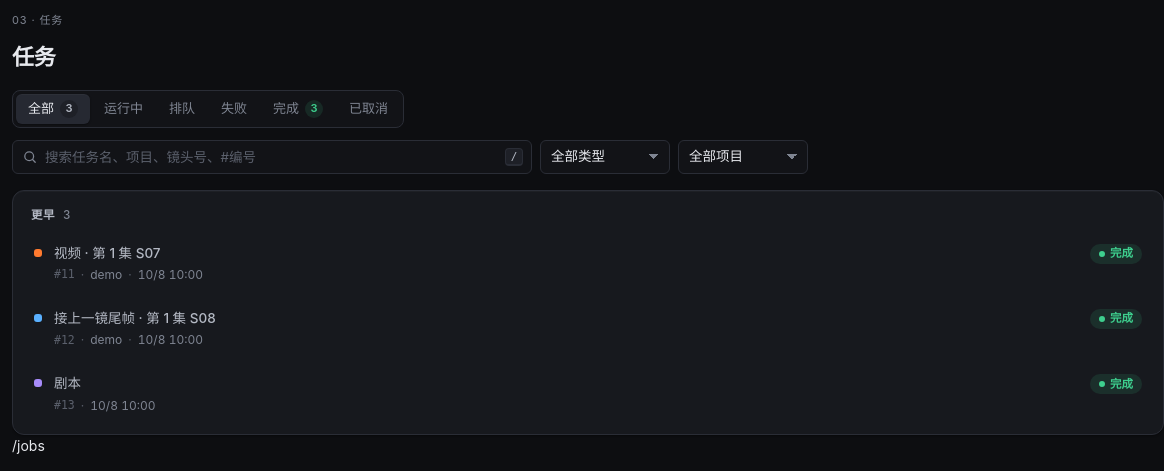
Test: JobsPage · 列表与筛选 › 搜索写进地址栏（q），能按 #编号、镜头号筛；类型筛选按步骤分组
The image size is (1164, 471).
Expected: the option "剧本 #13 10/8 10:00 完成" is shown, [21,362,1155,426]
Type "S07" into the search field named "搜索任务". click: (272, 156)
box: [12,140,532,174]
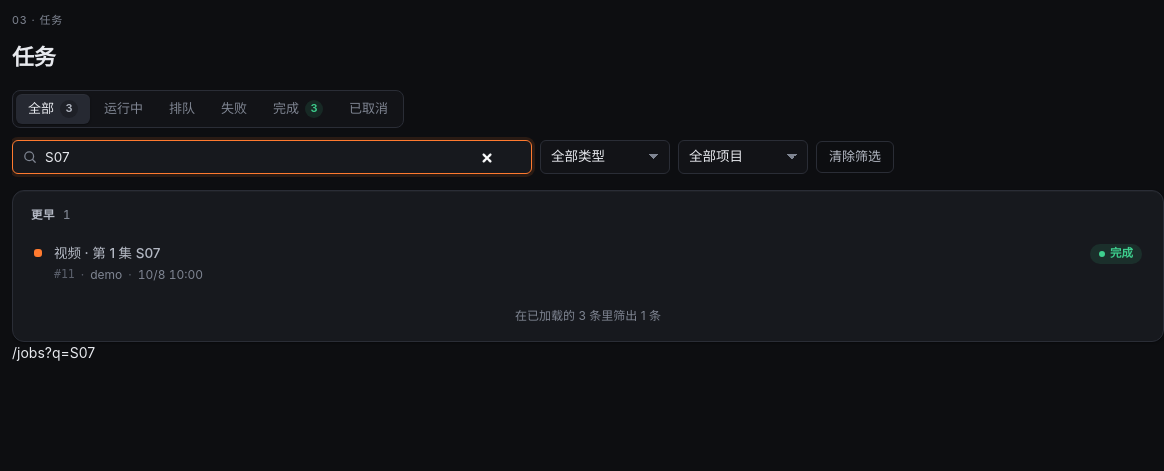
Expected: the text with test id "location" reads "/jobs?q=S07", [12,344,95,361]
Replace the text in the search field named "搜索任务" with "#13". click: (272, 156)
box: [12,140,532,174]
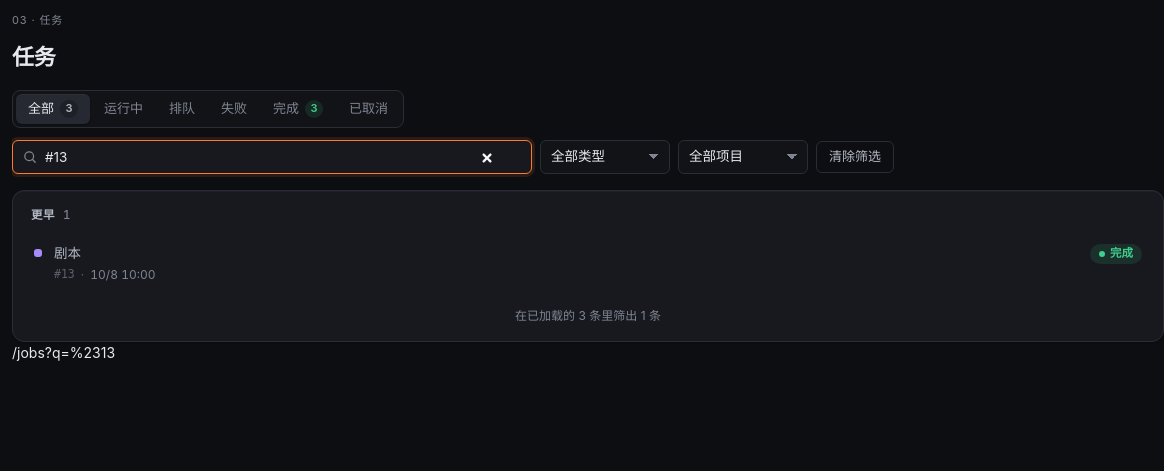
Clear the search field named "搜索任务". click: (272, 156)
box: [12,140,532,174]
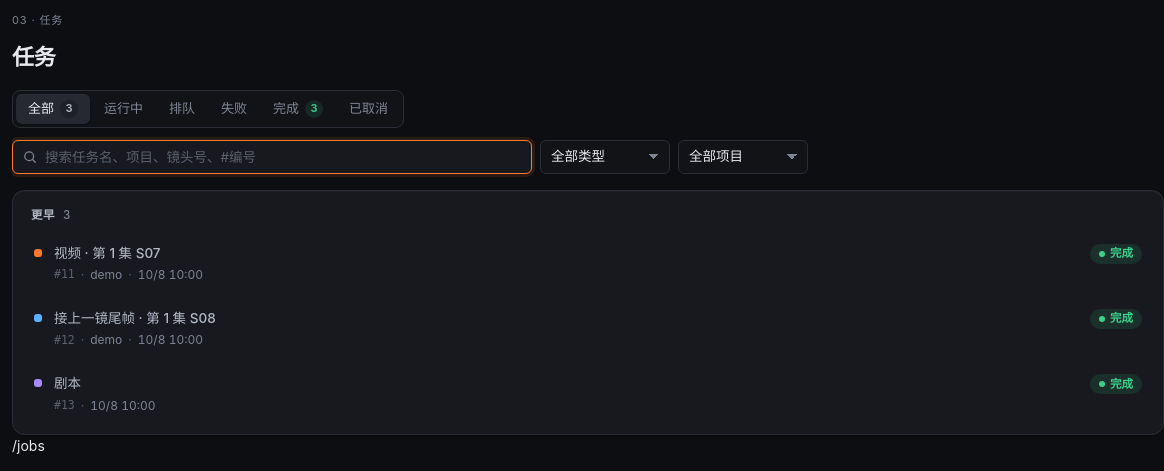
Select "首帧" in the dropdown named "类型筛选". click: (605, 156)
box: [540,140,670,174]
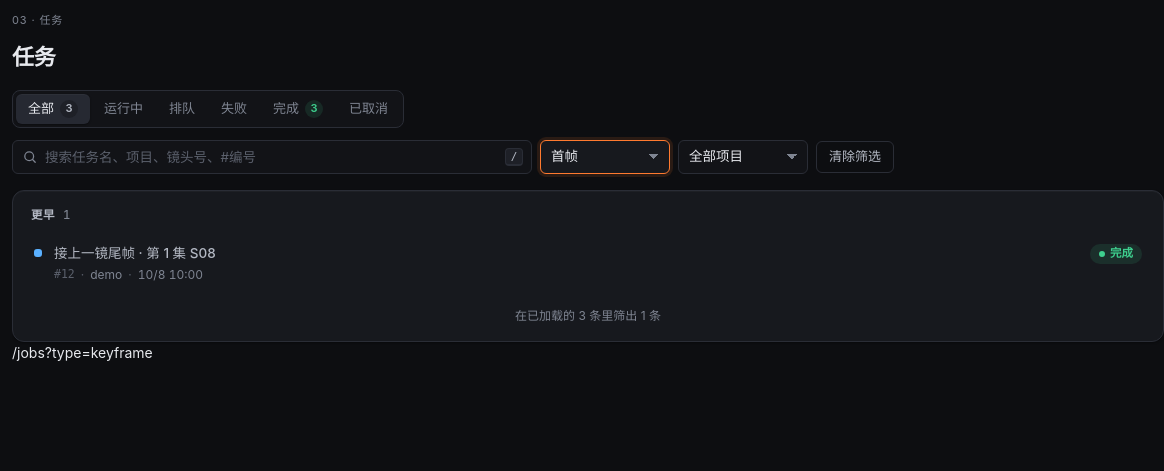
Expected: the text with test id "location" reads "/jobs?type=keyframe", [12,344,153,361]
Expected: the text "在已加载的 3 条里筛出 1 条" is shown, [515,307,661,325]
